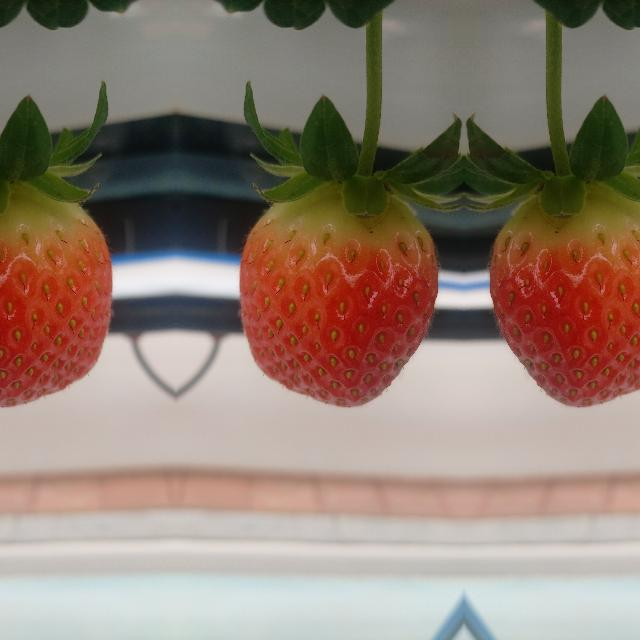Health_100: (238, 182, 438, 406), (488, 182, 640, 406), (0, 182, 111, 406)
